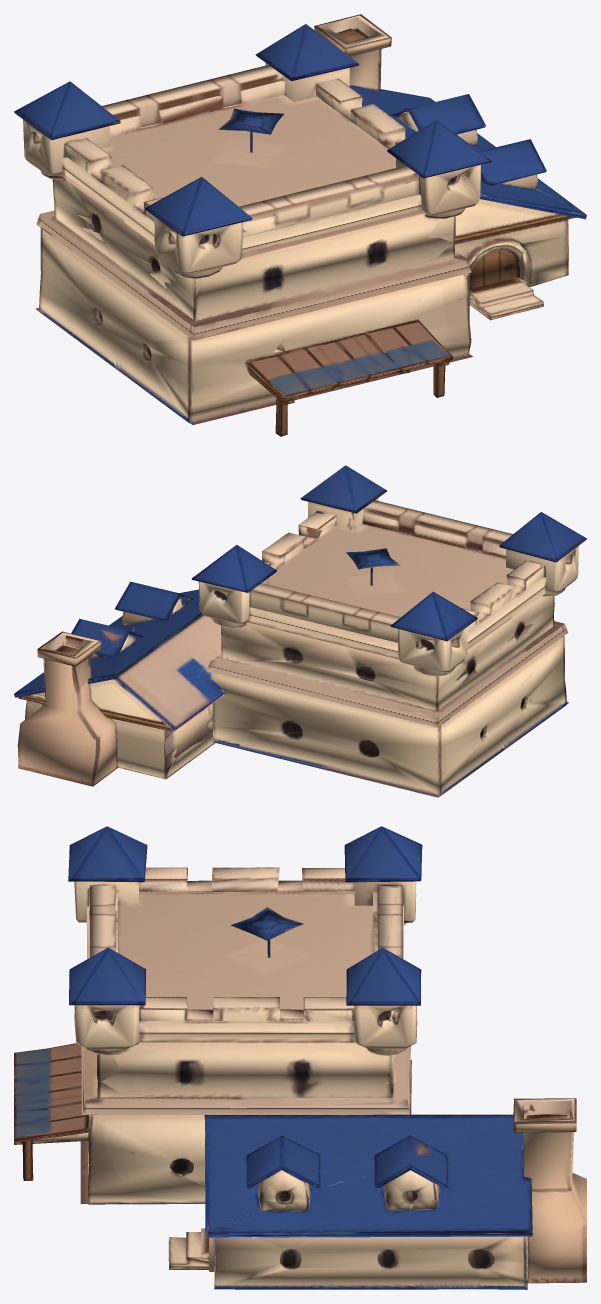
The model's file is meshy-c2-3000b.glb.
3 renders of one model, top to bottom at view 1: azimuth 30°, elevation 25°; view 2: azimuth 150°, elevation 25°; view 3: azimuth 270°, elevation 25°, orthographic. The views are drawn at different scales.
Size of the model in its own units: 0.9932 by 0.4896 by 1.
Materials: 1 (1 with a texture image).
